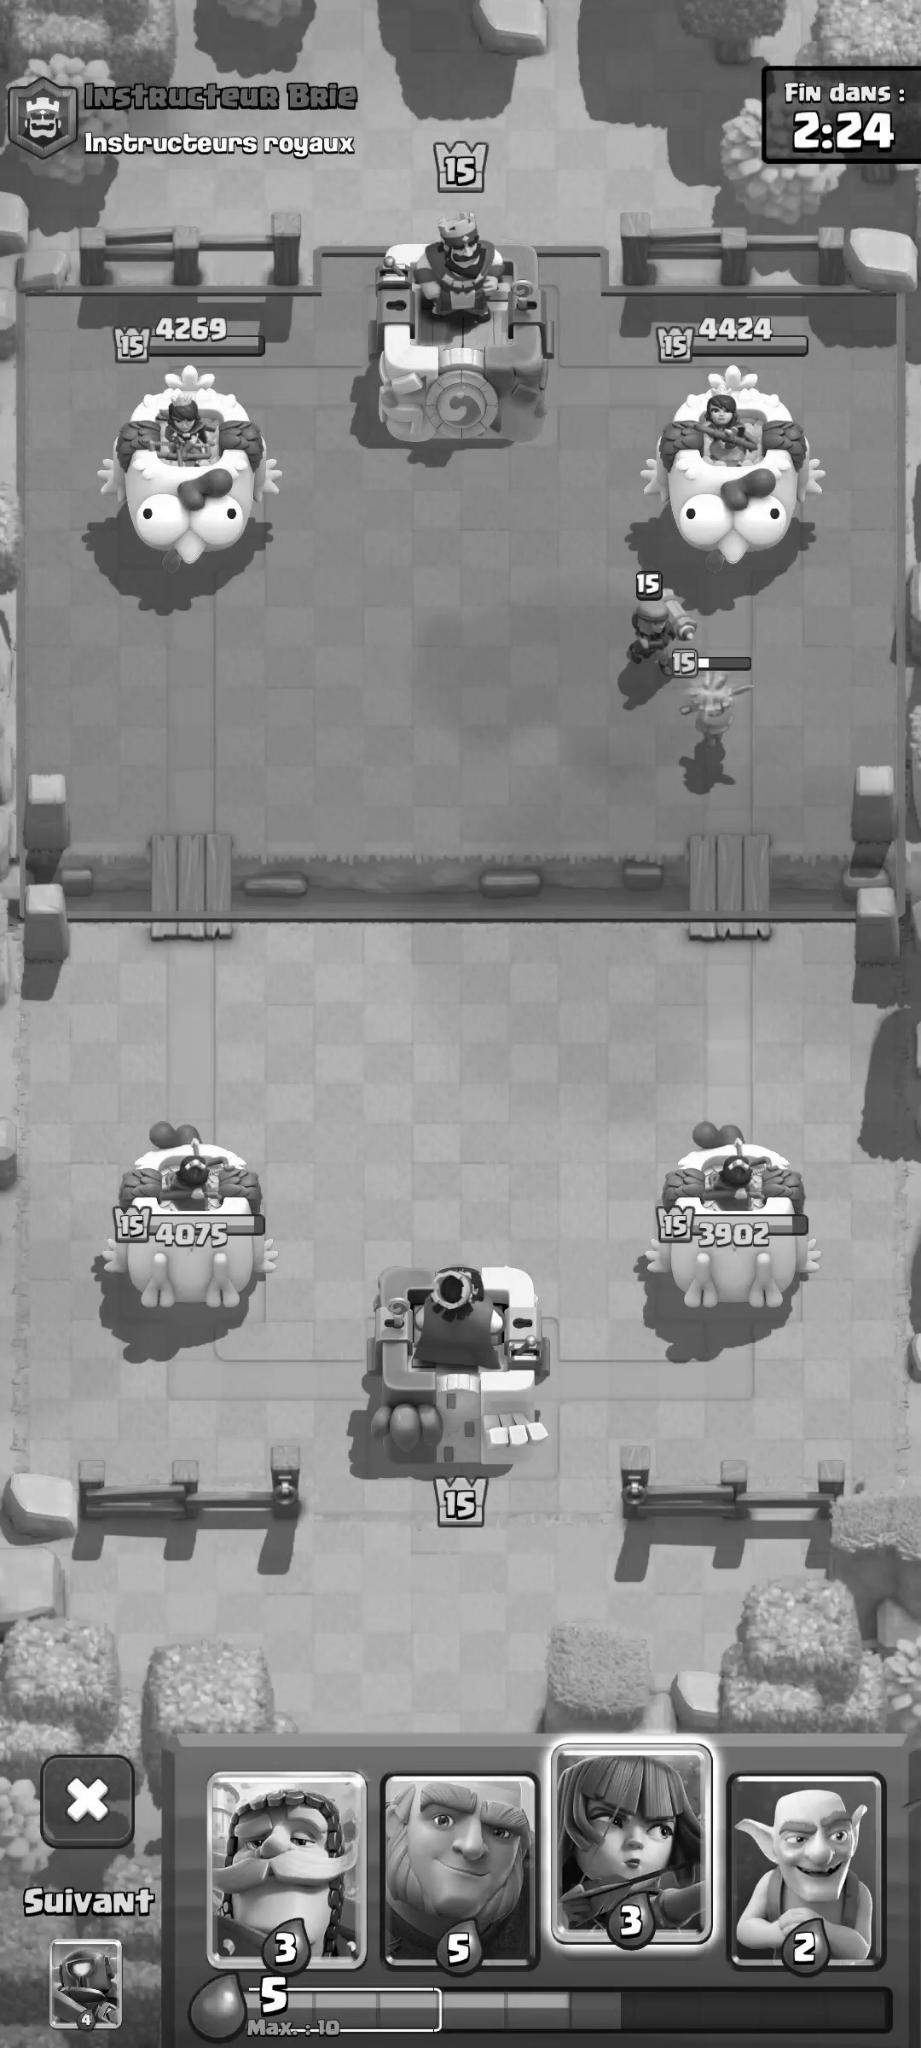valkyrie: (666, 670, 762, 765)
